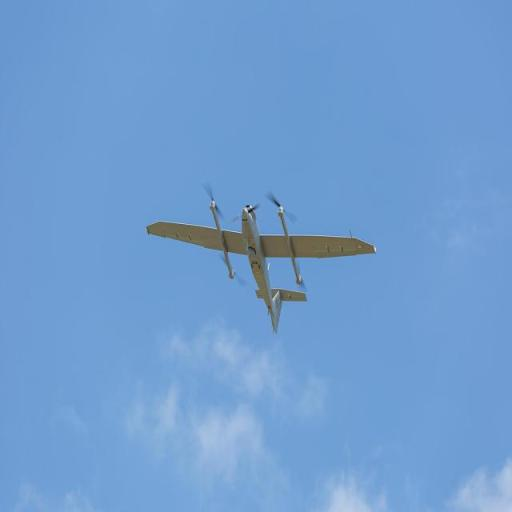uav: (142, 182, 380, 336)
